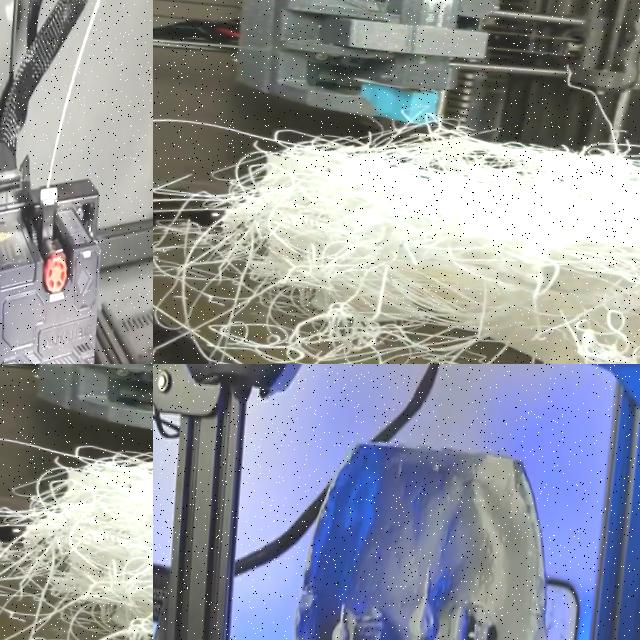spaghetti: (153, 85, 640, 364), (0, 401, 153, 640)
